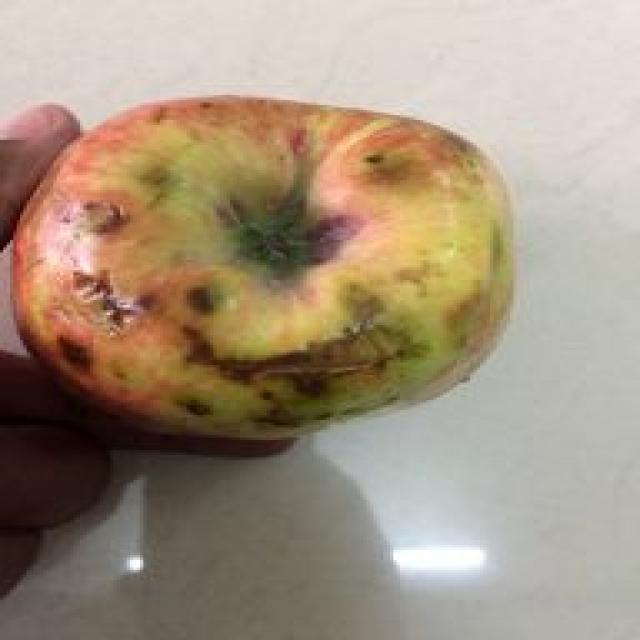Bad_Apple: (13, 98, 512, 438)
